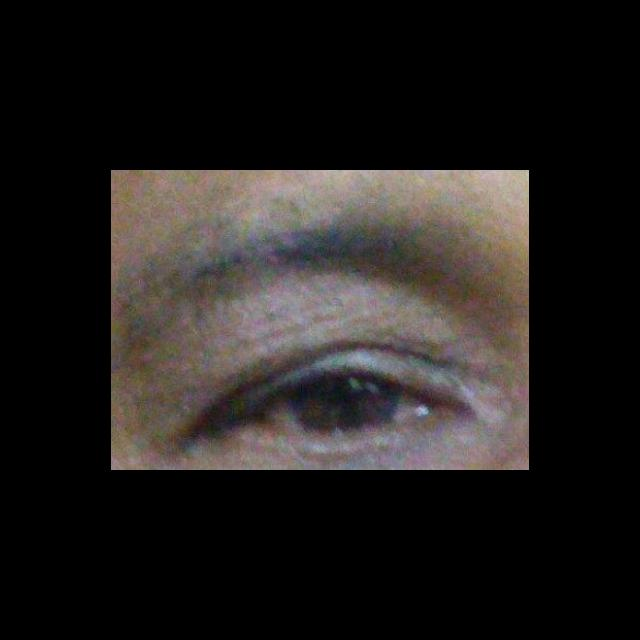eye: (260, 374, 433, 427)
iris: (290, 376, 403, 425)
